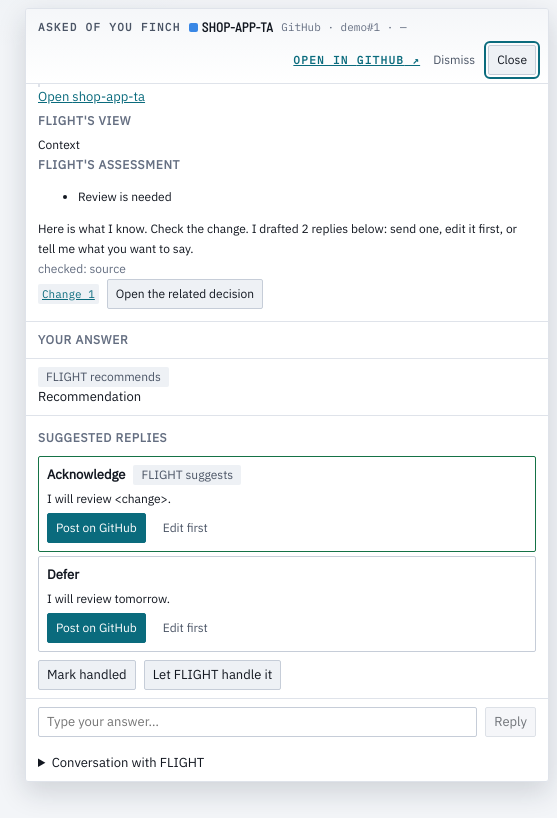
Test: keeps independent reply drafts for github
(page scrolled)
Click the button "Edit first" below "I will review <change>." at (185, 528), box [154,513,217,543]
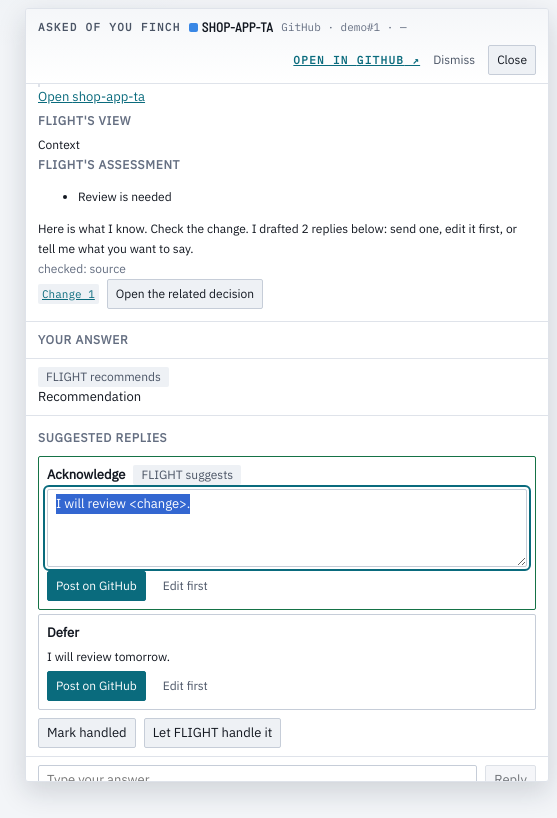
Replace the text in the text box named "Suggested reply" with "First draft" at (287, 528), box [47,489,527,567]
Click the button "Edit first" below "I will review tomorrow." at (185, 686), box [154,671,217,701]
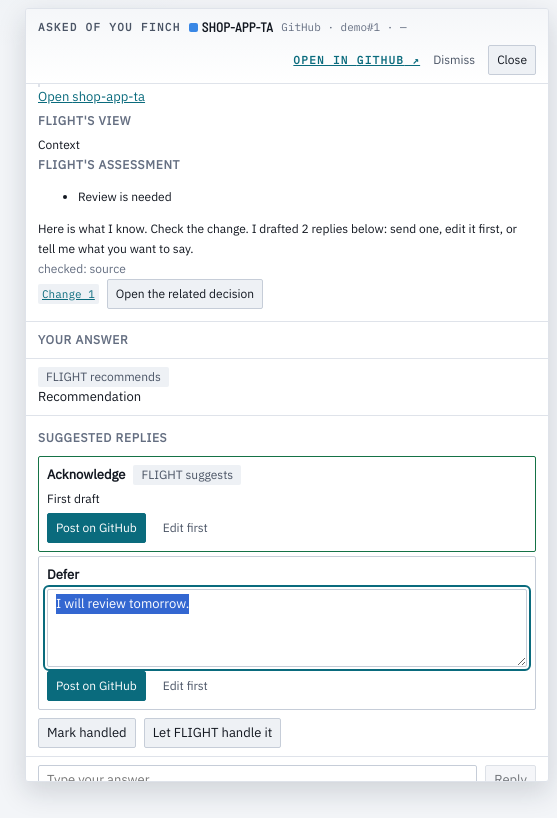
Replace the text in the text box named "Suggested reply" with "Second draft" at (287, 628), box [47,589,527,667]
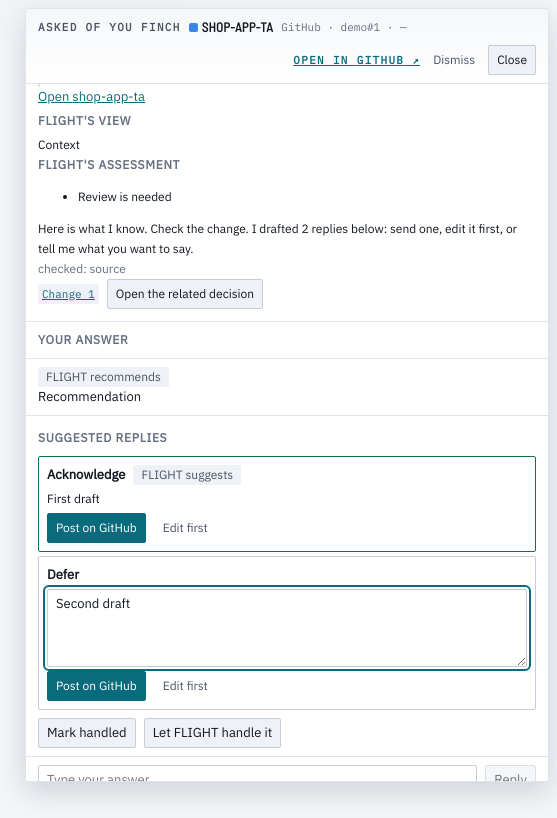
Click the button "Edit first" below "First draft" at (185, 528), box [154,513,217,543]
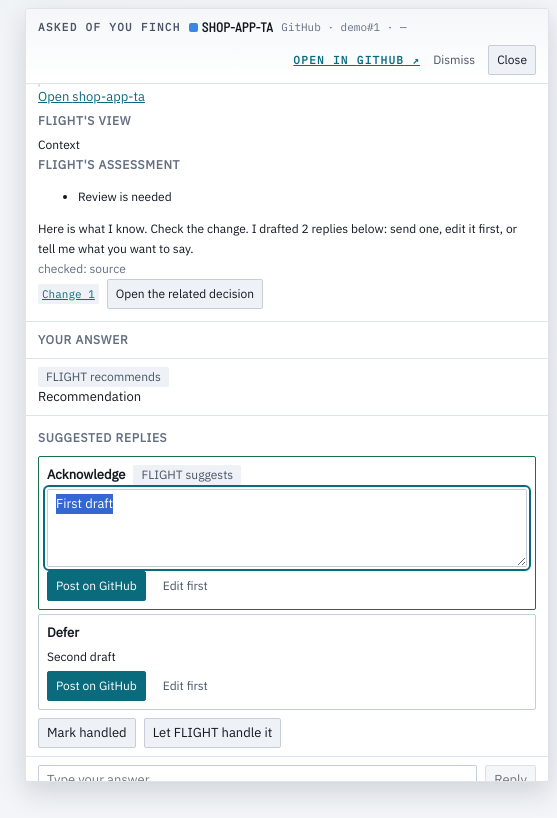
Expected: the text box named "Suggested reply" holds "First draft", [47,489,527,567]
Click the button "Edit first" below "Second draft" at (185, 686), box [154,671,217,701]
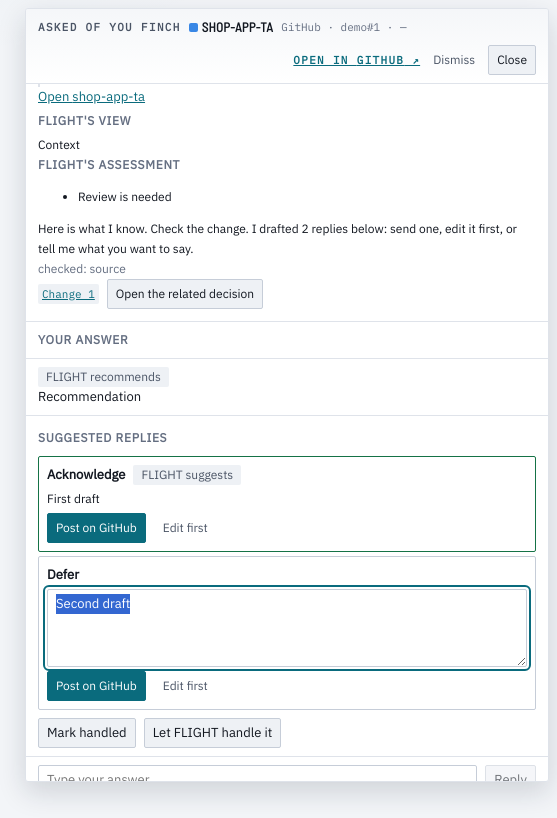
Expected: the text box named "Suggested reply" holds "Second draft", [47,589,527,667]
Click the button "Post on GitHub" below "First draft" at (96, 528), box [47,513,146,543]
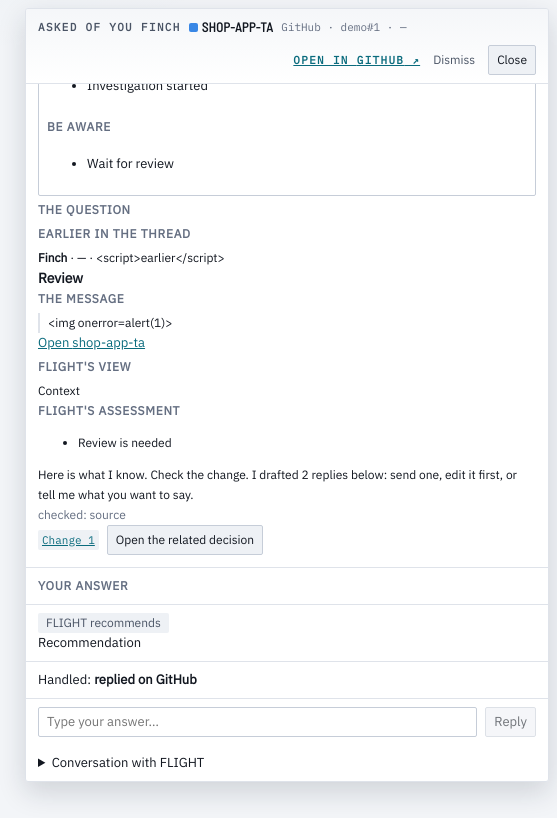
Expected: the text "replied on GitHub" is shown, [94,671,197,688]
